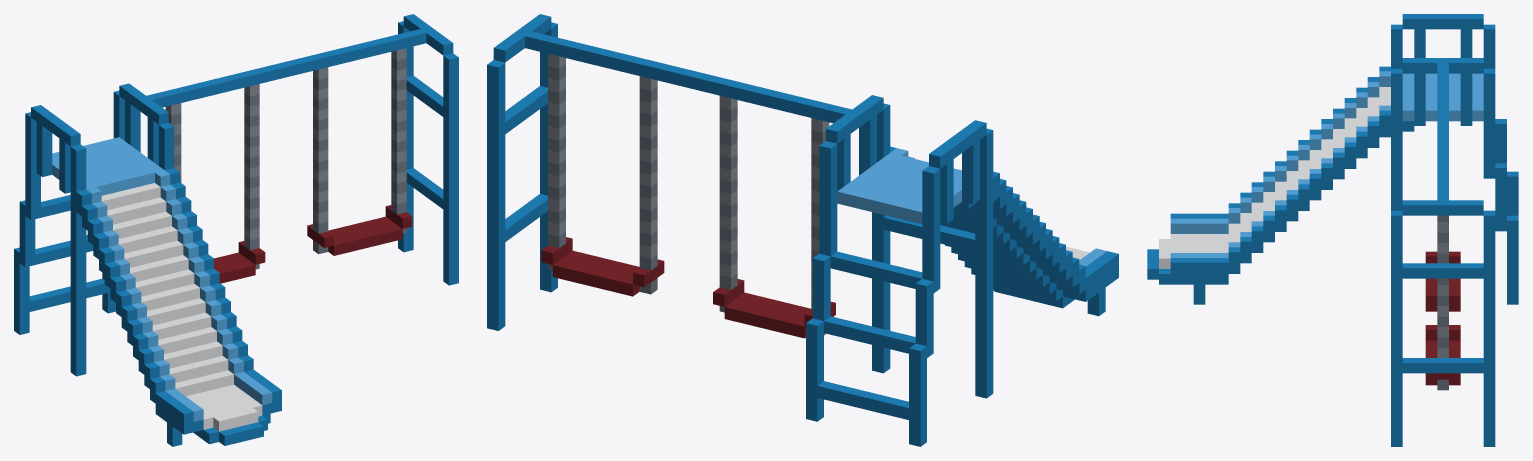
File: Playground_Slide_Swing.glb
The picture shows the model from 3 angles, left to right: view 1: azimuth 30°, elevation 25°; view 2: azimuth 150°, elevation 25°; view 3: azimuth 270°, elevation 25°; orthographic projection. The views are drawn at different scales.
Parts seen in each view (by area): view 1: Playground_Slide_Swing; view 2: Playground_Slide_Swing; view 3: Playground_Slide_Swing.
Part boxes in pixels (box(x1,y1,x2,y2)): Playground_Slide_Swing: box(14, 14, 458, 446); Playground_Slide_Swing: box(487, 14, 1118, 446); Playground_Slide_Swing: box(1147, 14, 1518, 446).
Bounding box in the file's own units: 3.9 × 2.3 × 3.2.
1 material, 1 textured.
